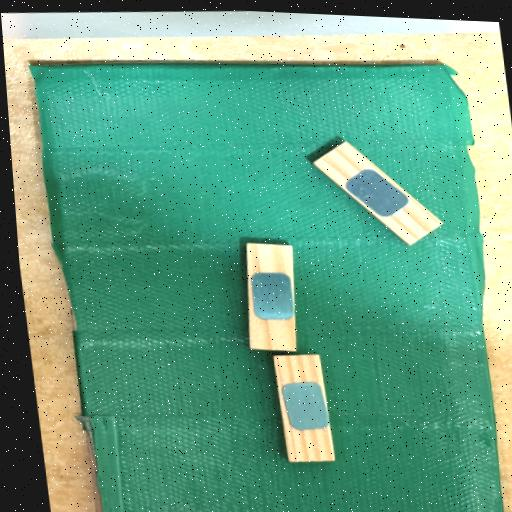objects: (314, 135, 444, 253), (274, 349, 335, 467), (247, 242, 296, 352)
